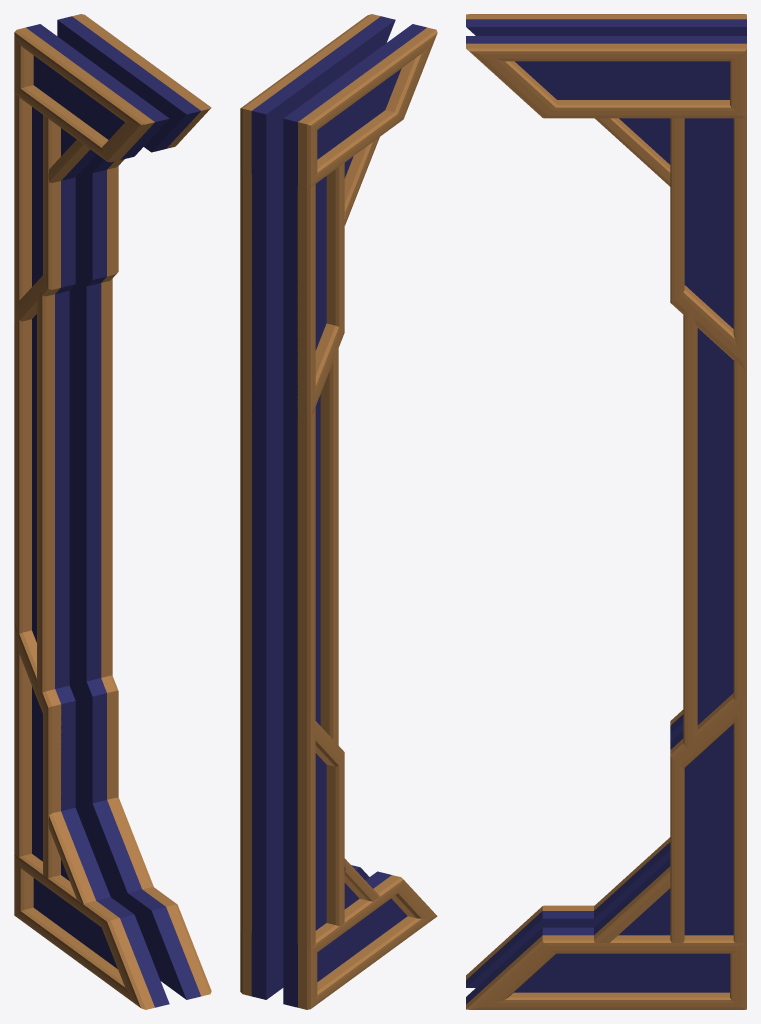
The model's file is DesolveWall_Holder.fbx.
3 renders of one model, left to right at view 1: azimuth 30°, elevation 25°; view 2: azimuth 150°, elevation 25°; view 3: azimuth 270°, elevation 25°, orthographic. The views are drawn at different scales.
Visible parts, largest first — view 1: Disolve_Wall_Holder; view 2: Disolve_Wall_Holder; view 3: Disolve_Wall_Holder.
Boxes of the visible parts, x1=… form: Disolve_Wall_Holder: x1=14, y1=14, x2=211, y2=1009; Disolve_Wall_Holder: x1=240, y1=14, x2=437, y2=1009; Disolve_Wall_Holder: x1=466, y1=14, x2=746, y2=1009.
Bounding box in the file's own units: 42 × 501 × 133.
